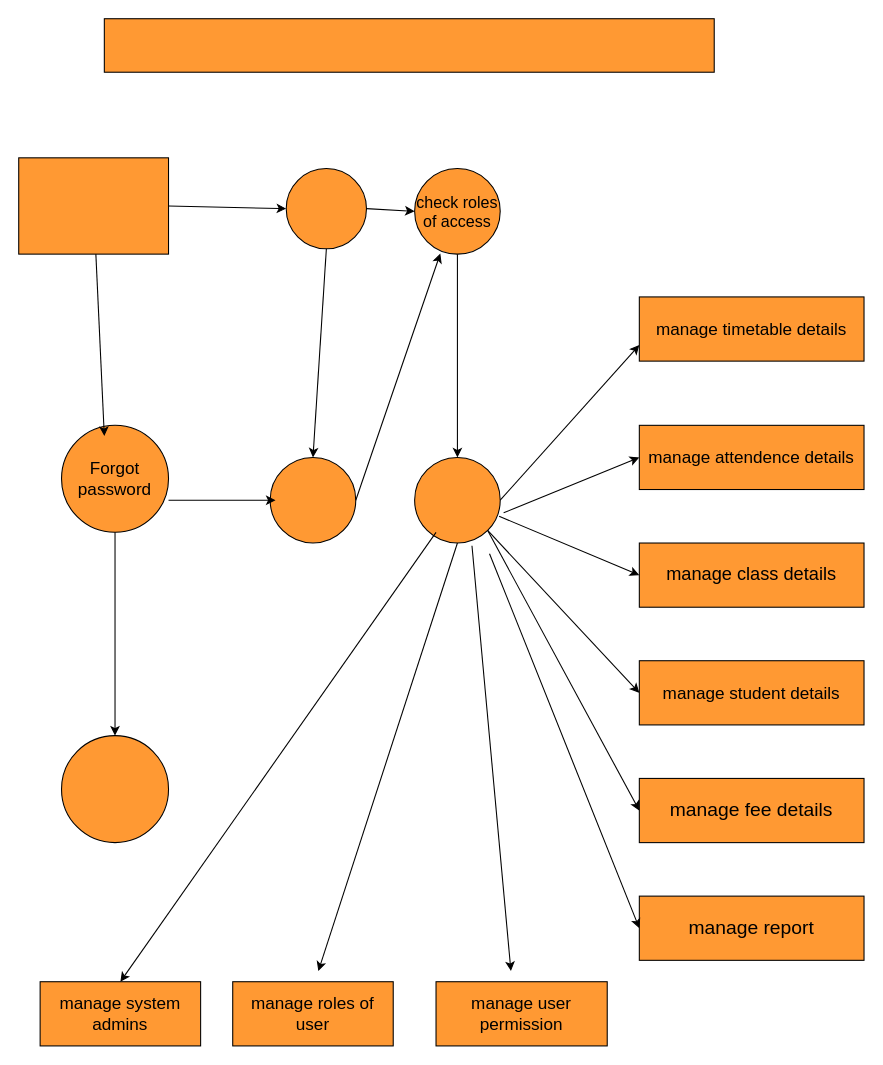
Some shapes in this 883 by 1065 pixel diagram are drawn without their labels. The box of each missing label's shape, as (x1, y1, x2, y2) in pixels:
Admin: (18, 157, 169, 254)
check credentials: (269, 456, 356, 543)
login to system: (285, 167, 366, 249)
manage modules: (414, 456, 500, 543)
send email to user: (60, 735, 169, 843)
STUDENT INFORMATIOM SYSTEM: (103, 18, 714, 72)
